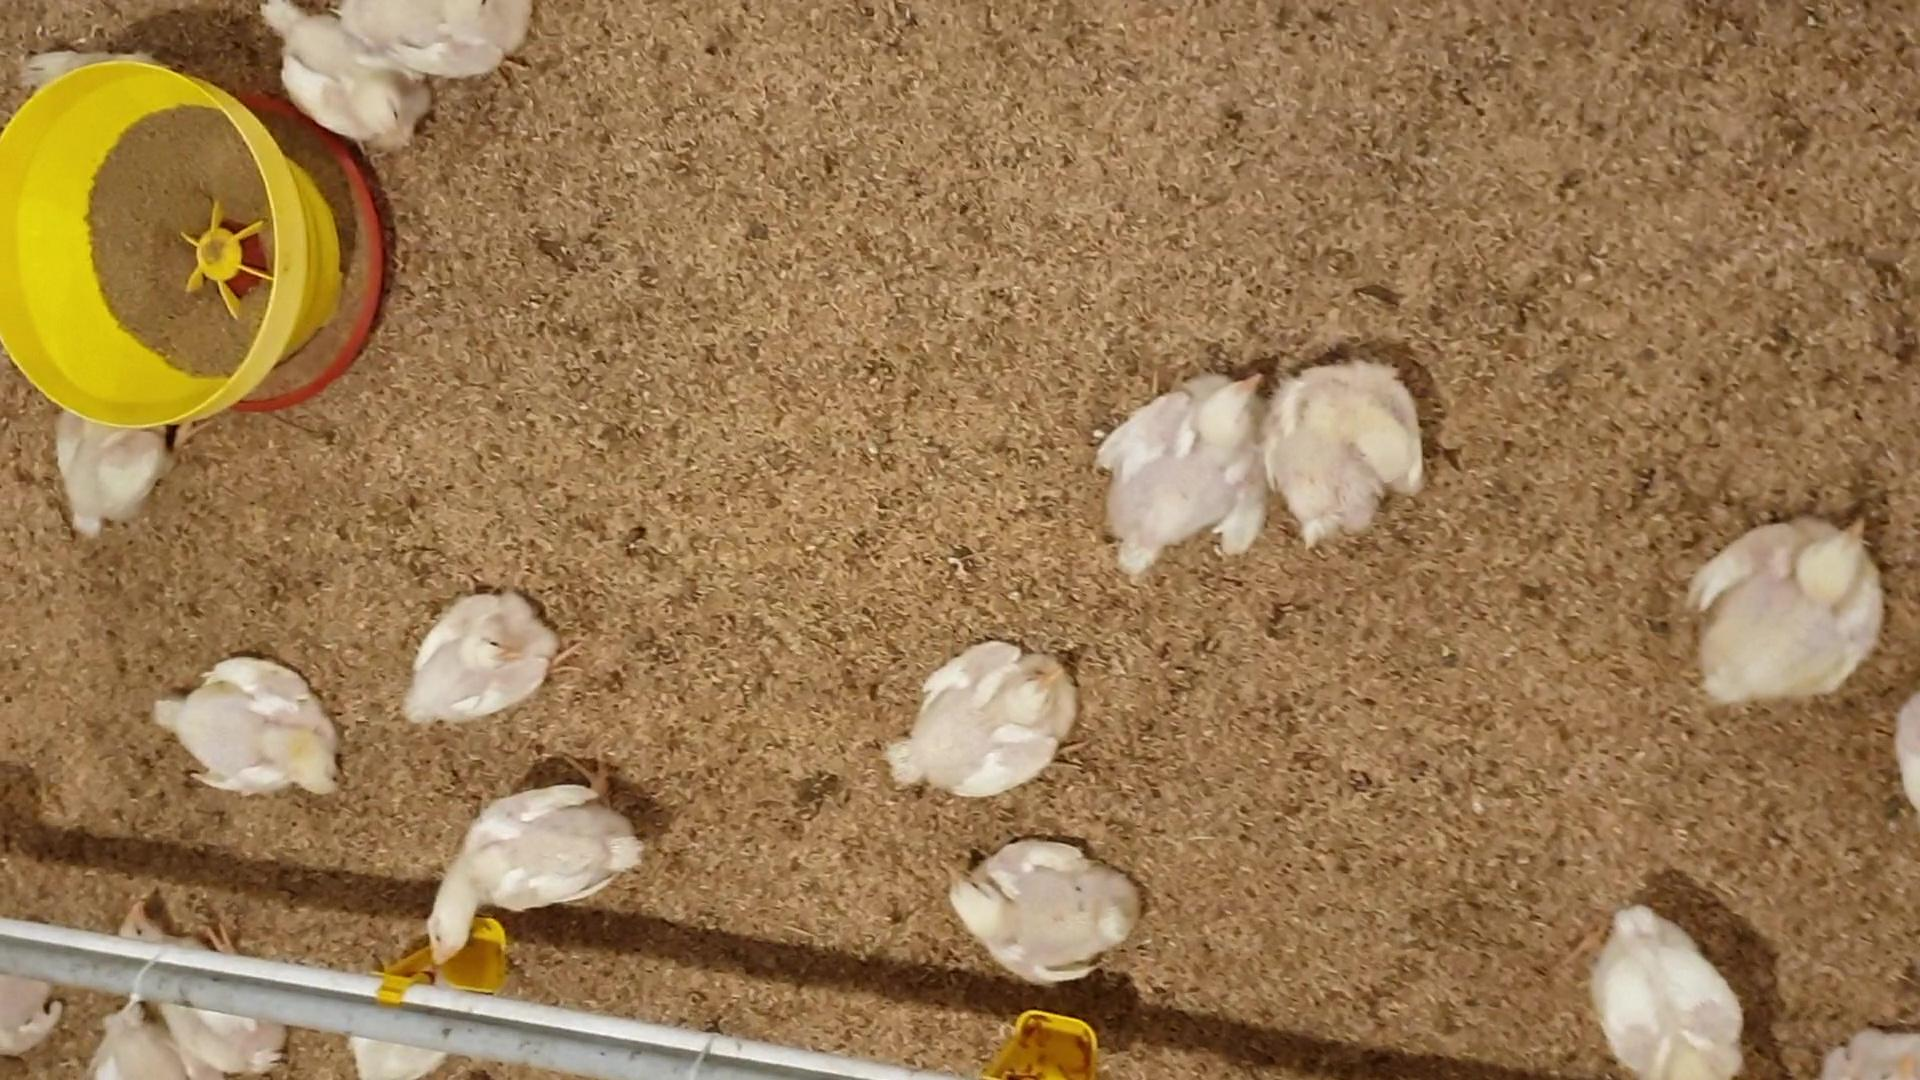Pollos: (417, 756, 647, 971), (1693, 508, 1891, 708), (1098, 365, 1279, 576), (938, 837, 1151, 984), (882, 645, 1073, 807), (1586, 898, 1749, 1080), (258, 0, 434, 153), (173, 654, 352, 800), (400, 585, 566, 731)
